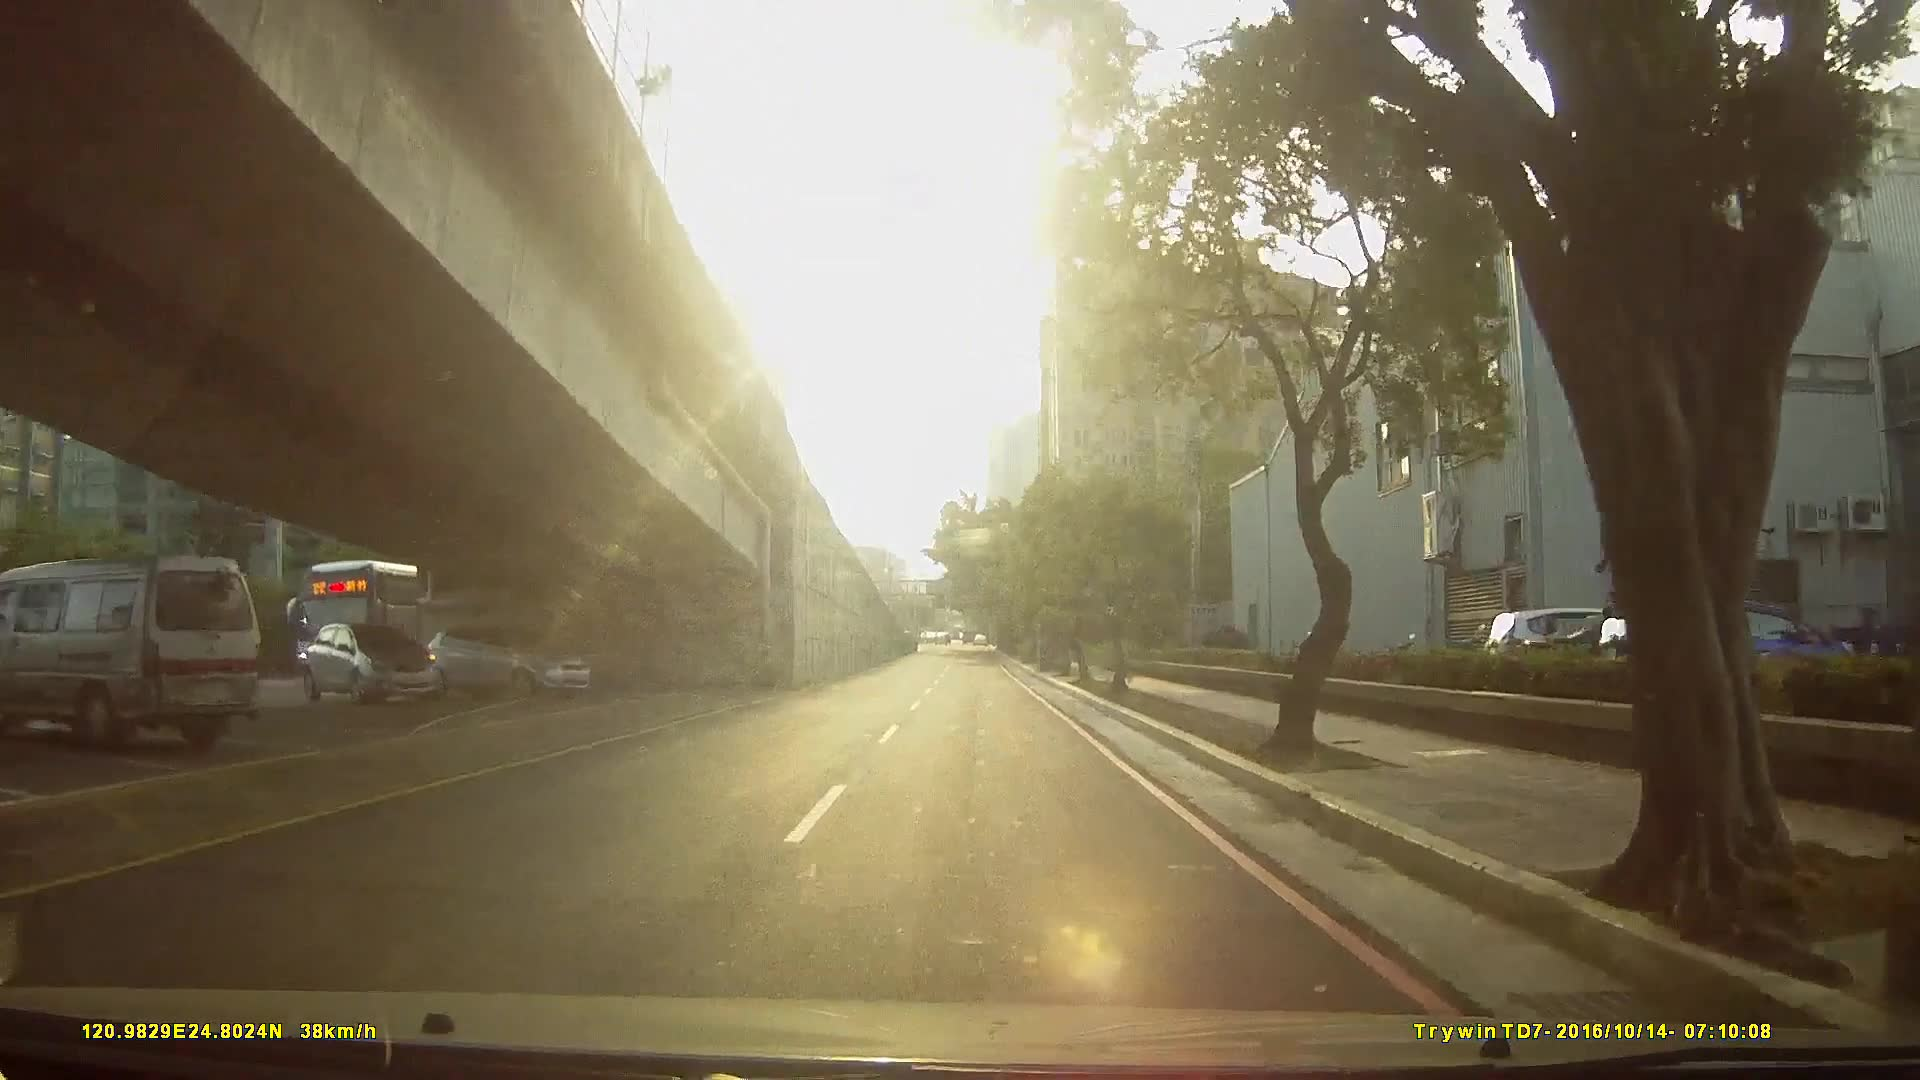vehicle: (4, 545, 262, 754), (285, 554, 506, 696), (415, 620, 589, 702), (290, 617, 436, 707)
